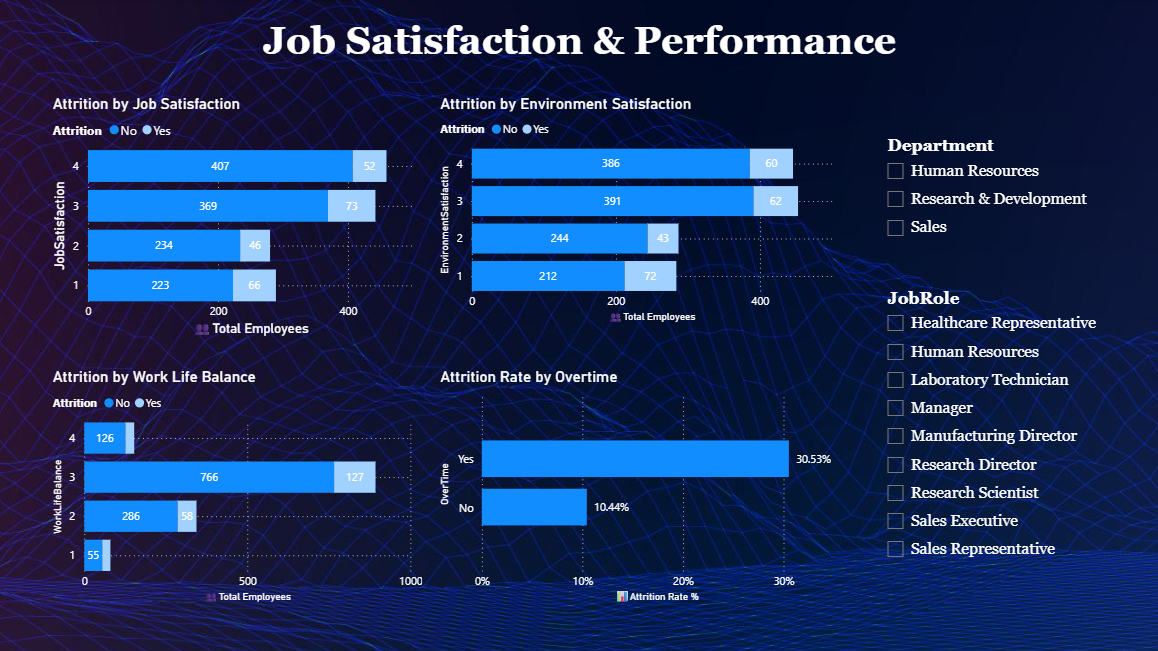

Layout of this report page (visuals, bound fields, positions):
{"tool":"powerbi","page":{"name":"Job satisfaction & Performance","canvas":[1280,720],"ordinal":2},"visuals":[{"type":"barChart","title":"Attrition by Job Satisfaction","fields":{"Category":["HR Data.JobSatisfaction"],"Y":["Table.Total Employees"],"Series":["HR Data.Attrition"]},"box":[56.3,104.3,415.8,270.3],"z":0},{"type":"barChart","title":"Attrition by Environment Satisfaction","fields":{"Category":["HR Data.EnvironmentSatisfaction"],"Y":["Table.Total Employees"],"Series":["HR Data.Attrition"]},"box":[481.6,104.3,450.1,255.2],"z":1000},{"type":"barChart","title":"Attrition by Work Life Balance","fields":{"Category":["HR Data.WorkLifeBalance"],"Y":["Table.Total Employees"],"Series":["HR Data.Attrition"]},"box":[56.3,404.8,415.8,262.1],"z":2000},{"type":"clusteredBarChart","title":"Attrition Rate by Overtime","fields":{"Category":["HR Data.OverTime"],"Y":["Table.Attrition Rate %"]},"box":[481.6,404.8,451.5,262.1],"z":3000},{"type":"slicer","fields":{"Values":["HR Data.Department"]},"box":[964.7,145.5,300.5,153.7],"z":4000},{"type":"slicer","fields":{"Values":["HR Data.JobRole"]},"box":[964.7,312.9,300.5,341.7],"z":5000},{"type":"textbox","box":[201.7,16.5,875.5,76.8],"z":6000}]}

Visuals, with their boxes in screenshot pixels (x1, y1, x2, y2), scaled from the page's 1280x720 canvas onto the 1158x651 screenshot:
"Attrition by Job Satisfaction" barChart: 51,94,427,339
"Attrition by Environment Satisfaction" barChart: 436,94,843,325
"Attrition by Work Life Balance" barChart: 51,366,427,603
"Attrition Rate by Overtime" clusteredBarChart: 436,366,844,603
slicer - HR Data.Department: 873,132,1145,271
slicer - HR Data.JobRole: 873,283,1145,592
textbox: 182,15,975,84
